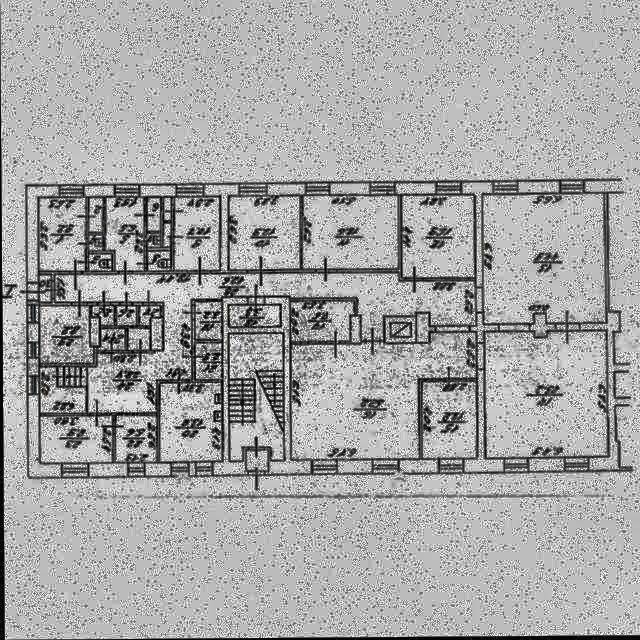room: (55, 274, 476, 413), (290, 333, 476, 460), (482, 194, 606, 325), (484, 331, 607, 459), (302, 196, 398, 270), (229, 334, 283, 462), (401, 195, 475, 279), (229, 197, 300, 270), (159, 383, 222, 463), (421, 383, 476, 460), (39, 198, 85, 272), (173, 198, 219, 271), (41, 416, 112, 463), (39, 305, 93, 364), (105, 197, 144, 271), (290, 302, 354, 342), (39, 368, 85, 413), (116, 417, 156, 463), (228, 305, 280, 327), (195, 303, 222, 341), (195, 344, 222, 380), (96, 329, 125, 351), (246, 451, 268, 472), (91, 306, 114, 326), (89, 197, 102, 232), (128, 329, 149, 350), (89, 253, 112, 272), (147, 252, 170, 271), (147, 198, 160, 231), (116, 305, 136, 326), (139, 306, 160, 326), (39, 274, 51, 302), (88, 235, 103, 251), (147, 234, 160, 248), (164, 198, 171, 221), (164, 224, 170, 247)
